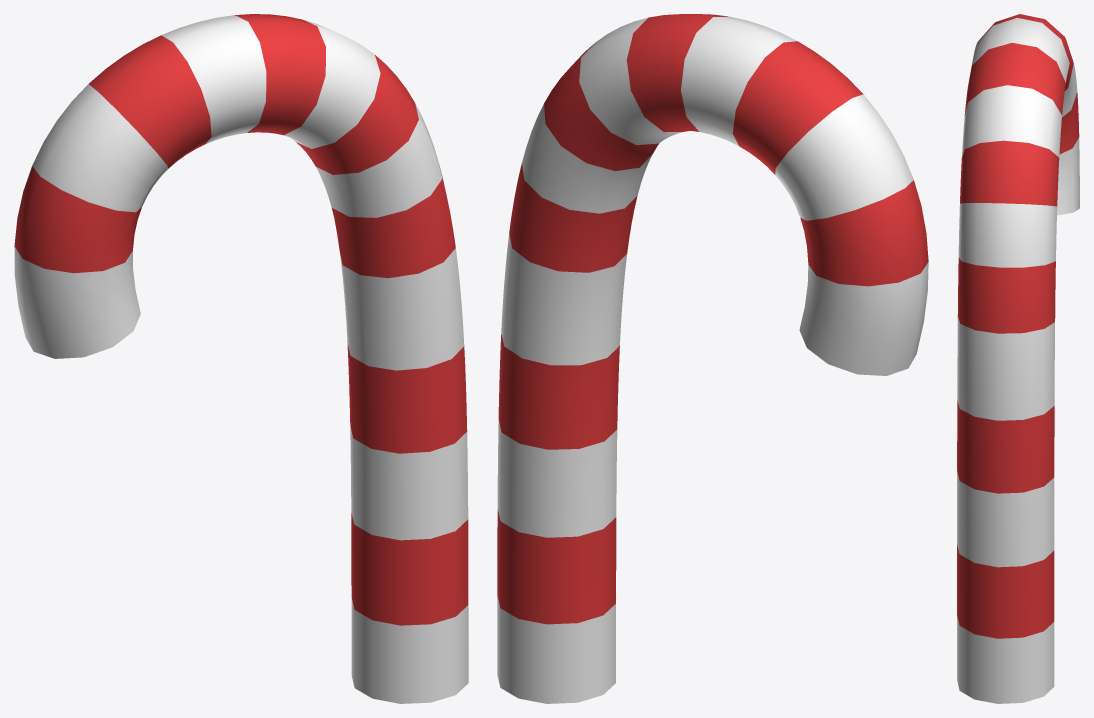
File: Lollipop 2.fbx
The picture shows the model from 3 angles, left to right: view 1: azimuth 30°, elevation 25°; view 2: azimuth 150°, elevation 25°; view 3: azimuth 270°, elevation 25°; orthographic projection. The views are drawn at different scales.
Parts seen in each view (by area): view 1: white red; view 2: white red; view 3: white red.
Part boxes in pixels (bbox=[...]): white red: bbox=[14, 14, 468, 703]; white red: bbox=[497, 14, 928, 703]; white red: bbox=[957, 14, 1079, 703].
Bounding box in the file's own units: 330 × 517 × 99.76.
